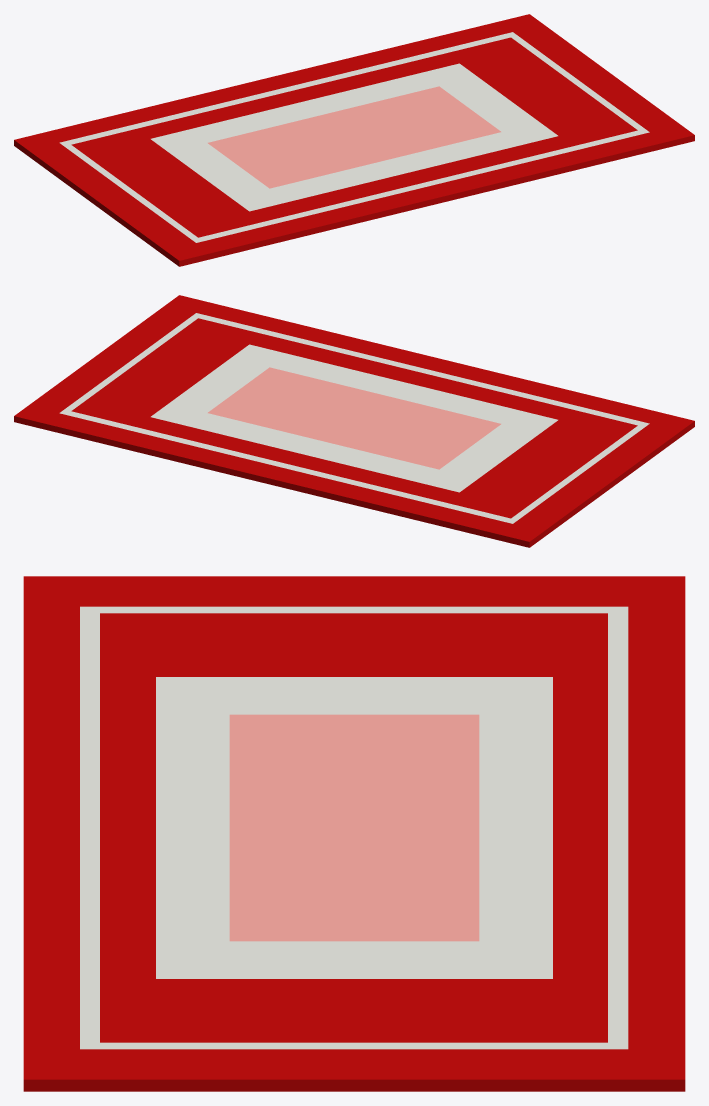
File: Carpet_1B.fbx
3 views of the same model, one above another, from view 1: azimuth 30°, elevation 25°; view 2: azimuth 150°, elevation 25°; view 3: azimuth 270°, elevation 25° (orthographic). The views are drawn at different scales.
Parts seen in each view (by area): view 1: pPlane49; view 2: pPlane49; view 3: pPlane49.
Boxes of the visible parts, <box> form: pPlane49: <box>14,14,694,266</box>; pPlane49: <box>14,295,694,547</box>; pPlane49: <box>23,576,685,1091</box>.
Bounding box in the file's own units: 4.5 × 0.05 × 2.5.
Materials: 1 (1 with a texture image).
